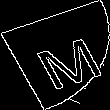M_NW: (14, 23, 96, 87)
